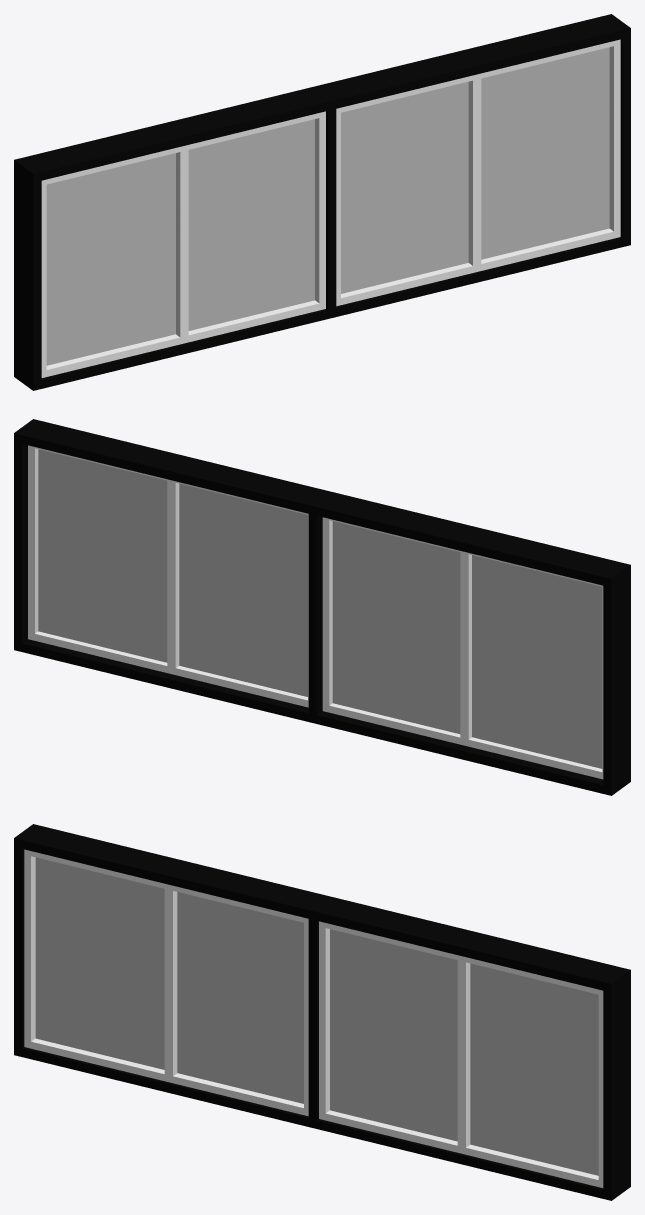
File: wxA.fbx
3 renders of one model, top to bottom at view 1: azimuth 30°, elevation 25°; view 2: azimuth 150°, elevation 25°; view 3: azimuth 330°, elevation 25°, orthographic.
Visible parts, largest first — view 1: glass, i; view 2: glass, i; view 3: glass, i.
Boxes of the visible parts, x1,y1,x2,y2 form: glass: (46, 47, 609, 365); i: (14, 14, 630, 390); glass: (38, 449, 602, 768); i: (14, 419, 630, 795); glass: (35, 857, 598, 1175); i: (14, 824, 630, 1200).
Bounding box in the file's own units: 35.71 × 12.39 × 2.
